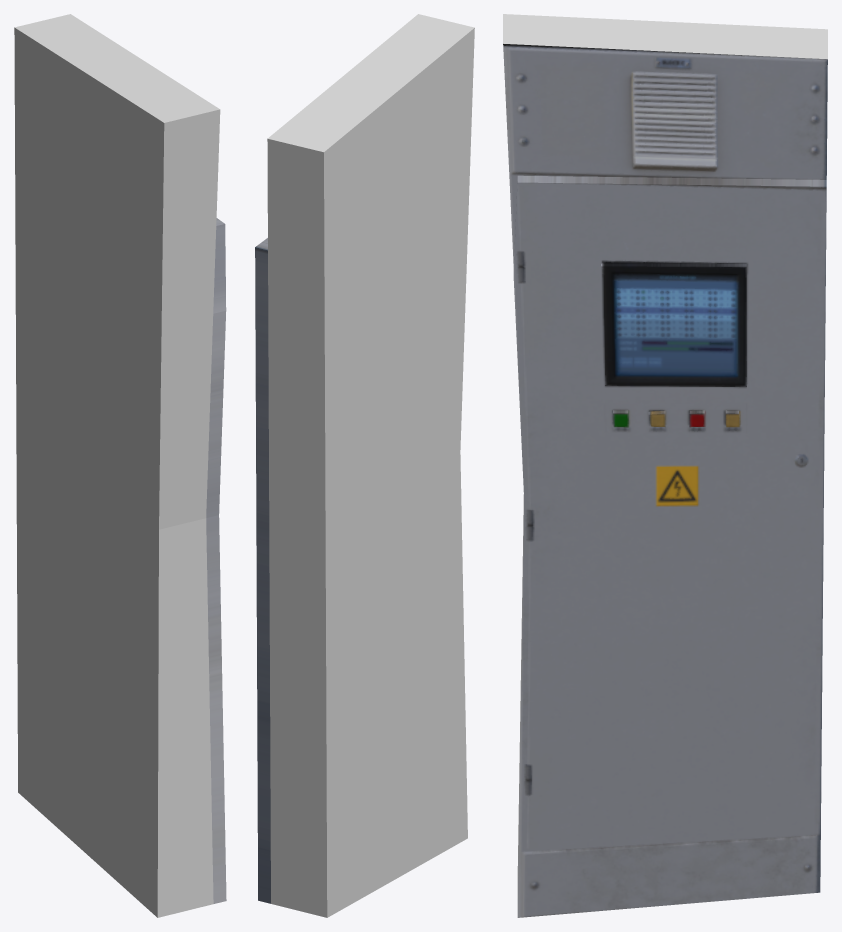
File: panel7.fbx
The picture shows the model from 3 angles, left to right: view 1: azimuth 30°, elevation 25°; view 2: azimuth 150°, elevation 25°; view 3: azimuth 270°, elevation 25°; orthographic projection. The views are drawn at different scales.
Visible parts, largest first — view 1: panel6; view 2: panel6; view 3: panel6.
Boxes of the visible parts, left/top/right/bottom form: panel6: left=14, top=14, right=226, bottom=917; panel6: left=255, top=14, right=474, bottom=917; panel6: left=503, top=14, right=827, bottom=917.
Size of the model in its own units: 138 by 1426 by 484.
Materials: 2 (1 with a texture image).
